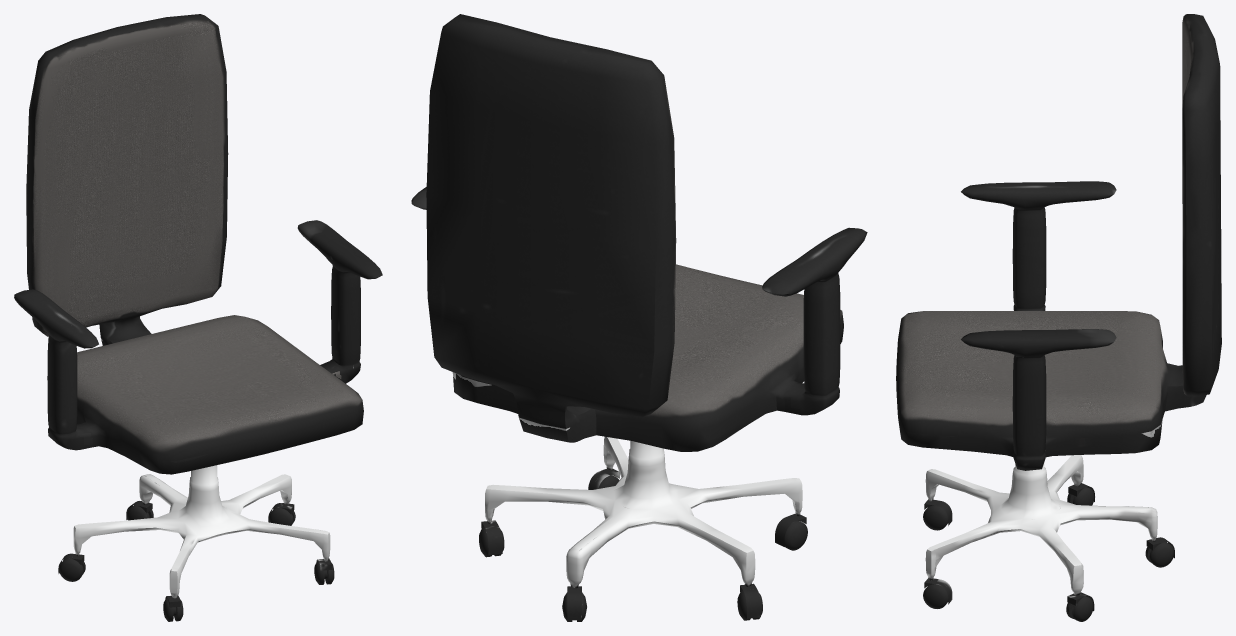
File: Stoelen_01.fbx
3 views of the same model, side by side, from view 1: azimuth 30°, elevation 25°; view 2: azimuth 150°, elevation 25°; view 3: azimuth 270°, elevation 25° (orthographic). The views are drawn at different scales.
Parts seen in each view (by area): view 1: bureau_stoel; view 2: bureau_stoel; view 3: bureau_stoel.
Boxes of the visible parts, x1,y1,x2,y2 form: bureau_stoel: (14,14,382,621); bureau_stoel: (411,14,867,621); bureau_stoel: (896,14,1221,621).
Bounding box in the file's own units: 284 × 424 × 243.
Materials: 1 (1 with a texture image).
